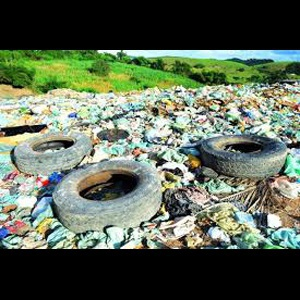tire: (52, 159, 163, 235), (200, 134, 288, 180), (13, 132, 93, 173)
